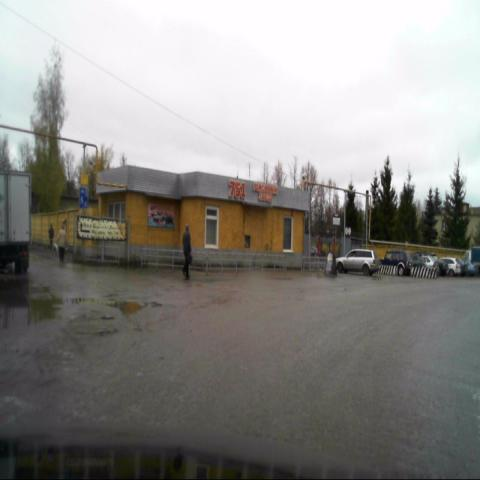5_21: (80, 188, 87, 209)
